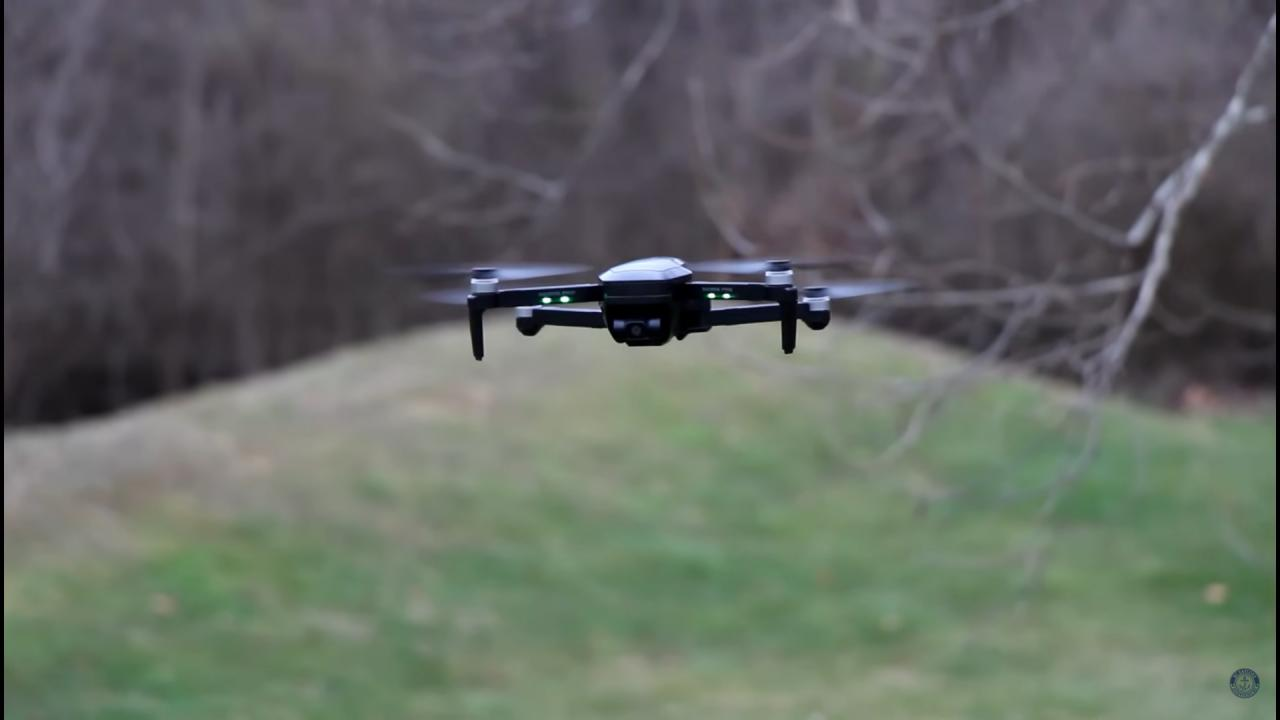Drone: (374, 246, 937, 370)
